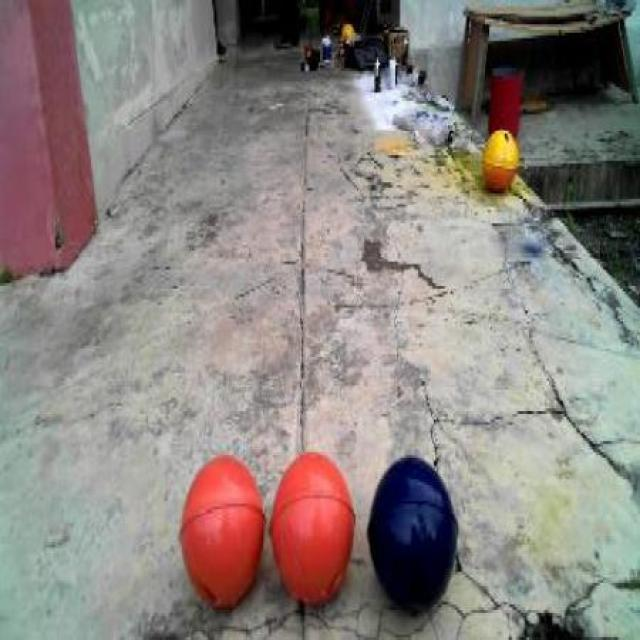buoy: (366, 443, 462, 619), (176, 449, 268, 619), (266, 438, 358, 606)
